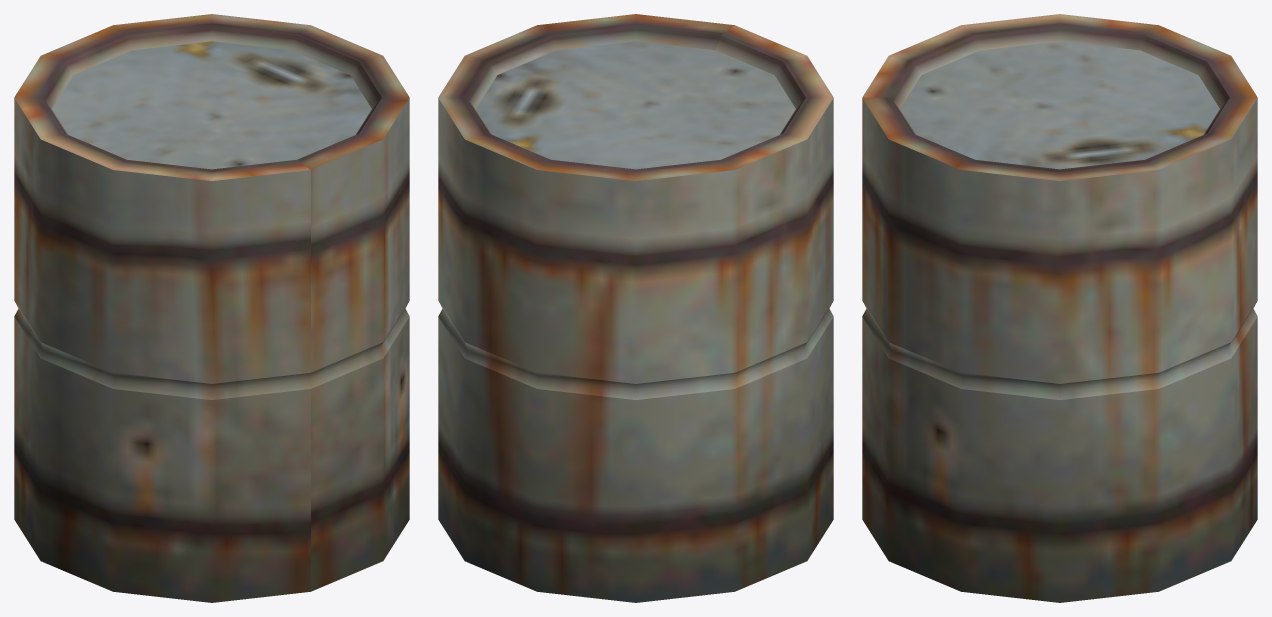
The model's file is SM_BIG_BARREL_04.fbx.
3 renders of one model, left to right at view 1: azimuth 30°, elevation 25°; view 2: azimuth 150°, elevation 25°; view 3: azimuth 270°, elevation 25°, orthographic.
Parts seen in each view (by area): view 1: SM_BIG_BARREL_04; view 2: SM_BIG_BARREL_04; view 3: SM_BIG_BARREL_04.
Part boxes in pixels (bbox=[...]): SM_BIG_BARREL_04: bbox=[14, 14, 409, 602]; SM_BIG_BARREL_04: bbox=[438, 14, 833, 602]; SM_BIG_BARREL_04: bbox=[862, 14, 1257, 602].
Bounding box in the file's own units: 0.85 × 1 × 0.85.
